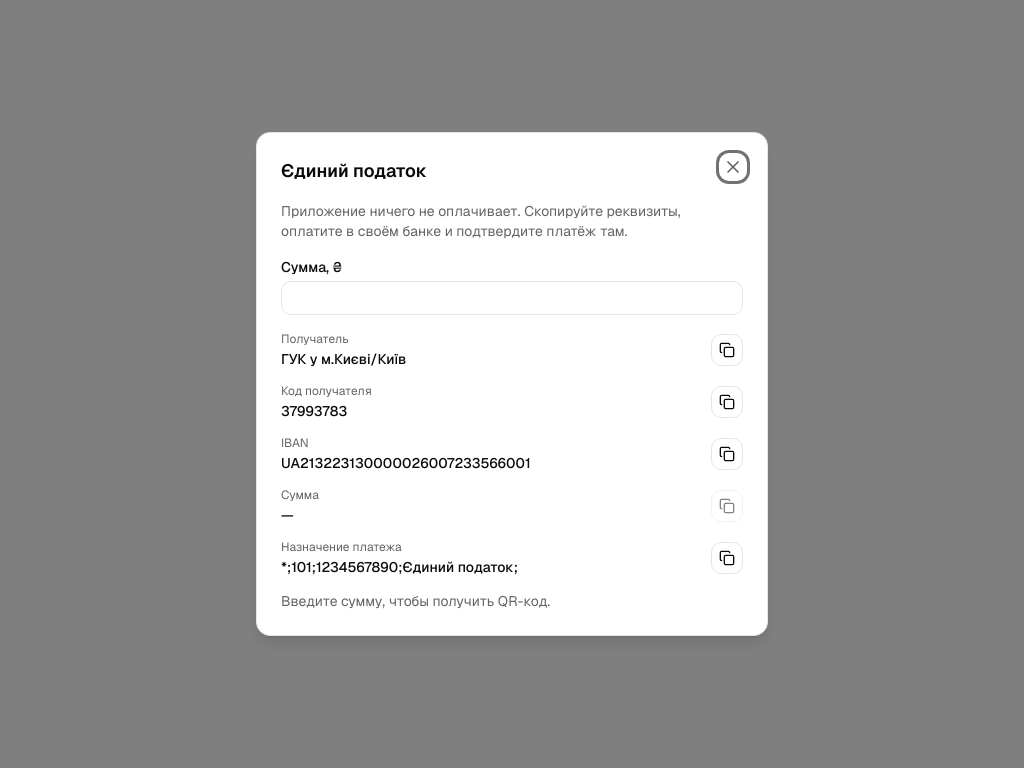
PayPanel › QR code states › shows no error on an empty amount the owner has not touched, in ru
This screenshot has width=1024, height=768.
expect the text "Введите сумму больше нуля, например 1234,56." is not shown: met
Click the field labelled "Сумма, ₴". click: [512, 298]
box: [281,281,743,315]
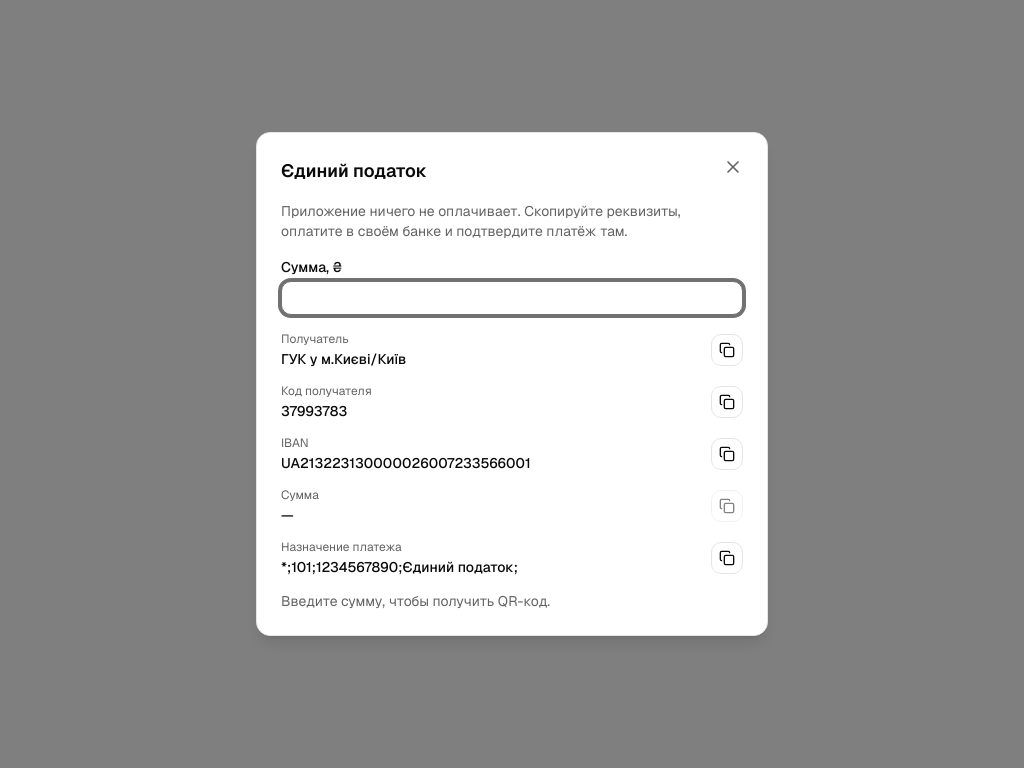
Press Tab
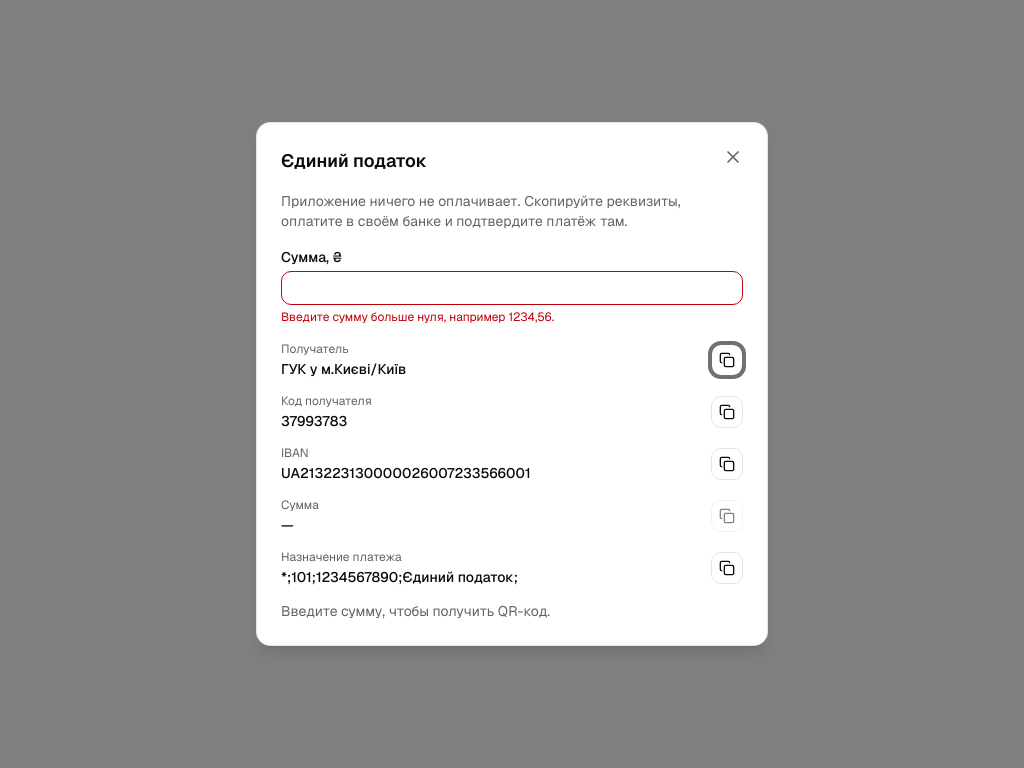
expect the text "Введите сумму больше нуля, например 1234,56." is shown: met, box [281,309,554,325]
